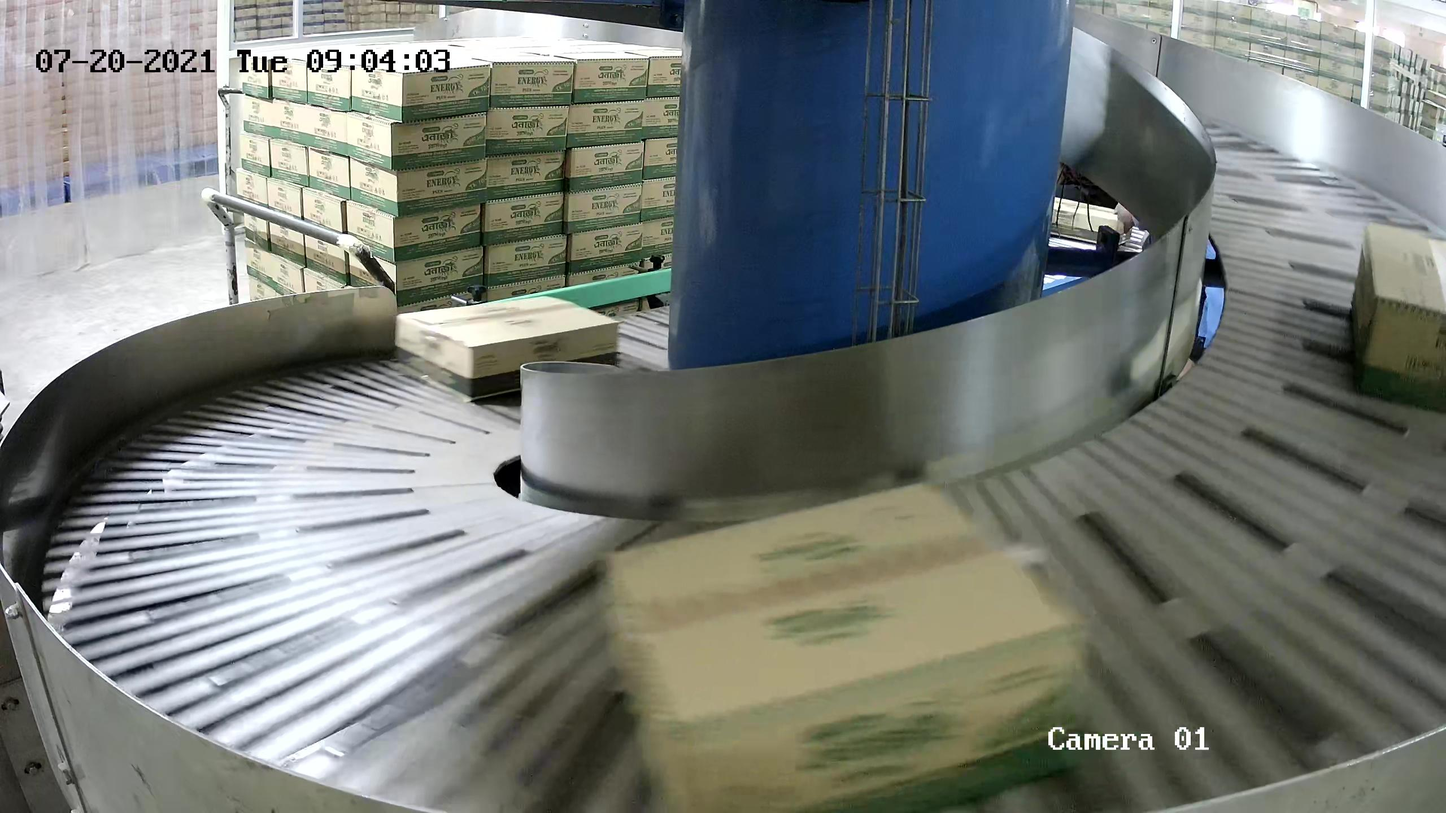Box: (604, 480, 1091, 813), (395, 294, 622, 403), (1342, 220, 1446, 417)
